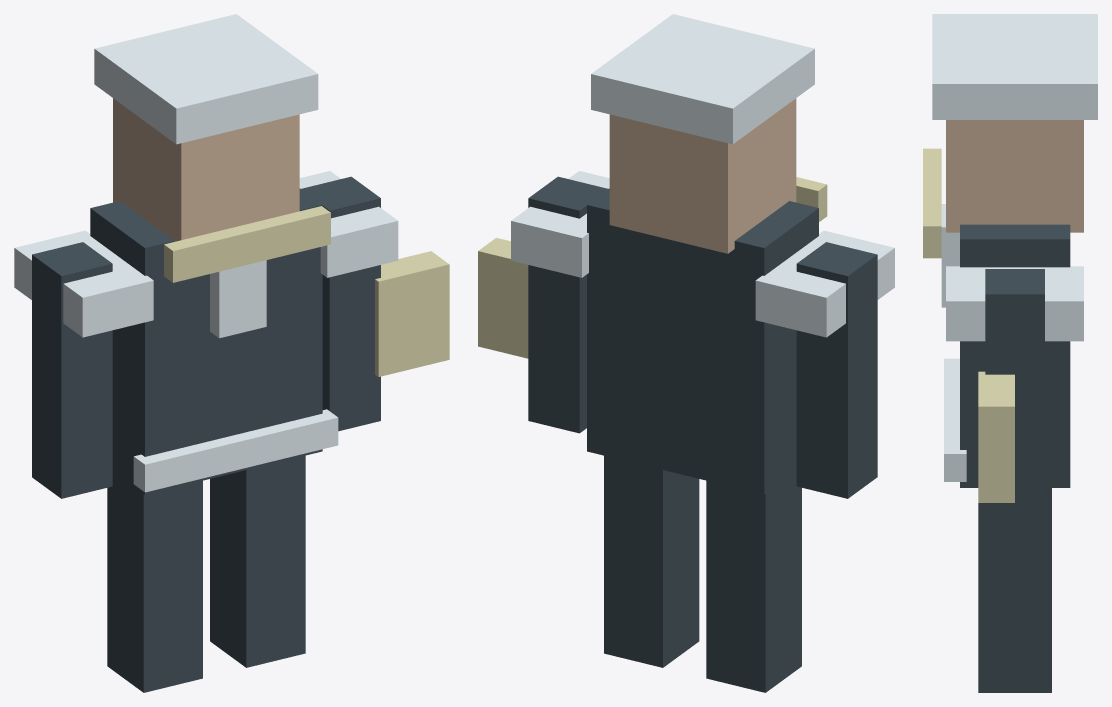
File: 03_kael_signalborn_captain_of_containment.glb
The picture shows the model from 3 angles, left to right: view 1: azimuth 30°, elevation 25°; view 2: azimuth 150°, elevation 25°; view 3: azimuth 270°, elevation 25°; orthographic projection.
Parts seen in each view (by area): view 1: Kael Signalborn, Captain of Containment; view 2: Kael Signalborn, Captain of Containment; view 3: Kael Signalborn, Captain of Containment.
Part boxes in pixels (box(x1,y1,x2,y2)): Kael Signalborn, Captain of Containment: box(14, 14, 449, 692); Kael Signalborn, Captain of Containment: box(478, 14, 894, 692); Kael Signalborn, Captain of Containment: box(923, 14, 1097, 692).
Bounding box in the file's own units: 0.9887 × 1.47 × 0.3853.
